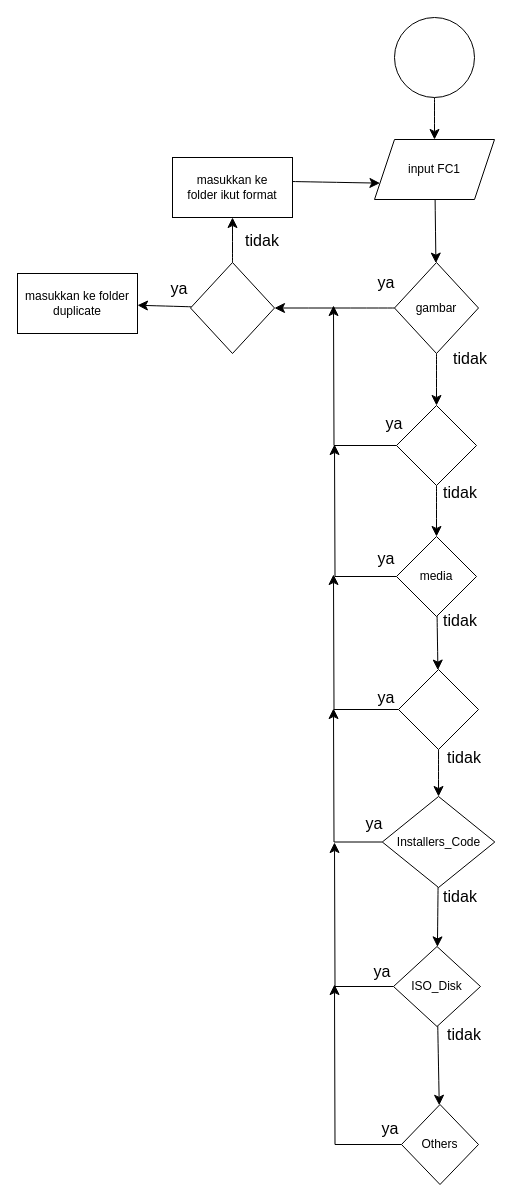
The diagram is 518 pixels wide and 1202 high, and some of its shapes have lost their labels. The shapes that lost their labels are listed below. From the top down, each one's centre as x and y in pixels, then its label:
At point (434, 57): "mula Modul2".
At point (232, 308): "duplicate".
At point (436, 445): "document".
At point (438, 709): "Archives".
